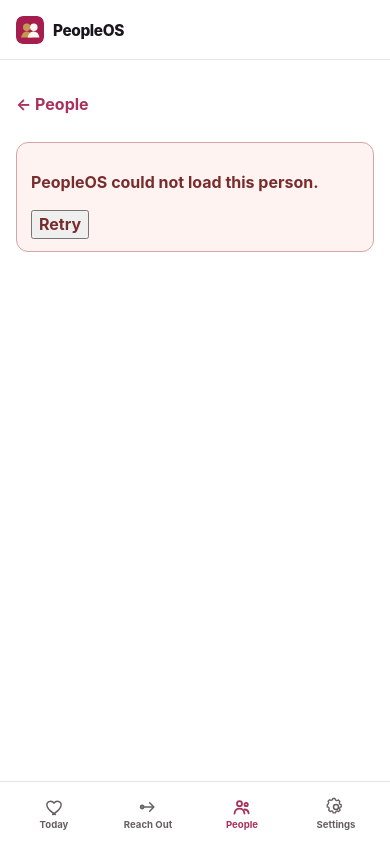
Test: simple Profile and Person lifecycle UI › recovers from an initial Profile identity read failure without a page reload
The width and height of the screenshot is (390, 844).
expect the message shows "PeopleOS could not load this person.": met, box [31, 172, 319, 192]
What coordinates should you click on to do the following:
click the button "Retry"
I would click on:
 (60, 225)
Its box is [31, 210, 89, 239].
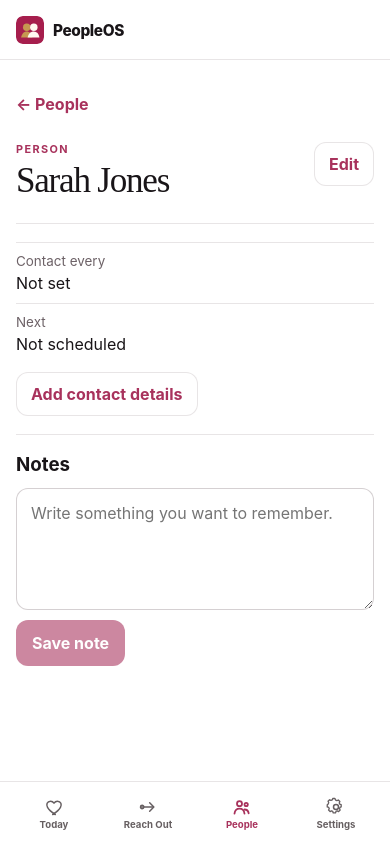
expect the heading "Sarah Jones" is shown: met, box [16, 163, 169, 199]
